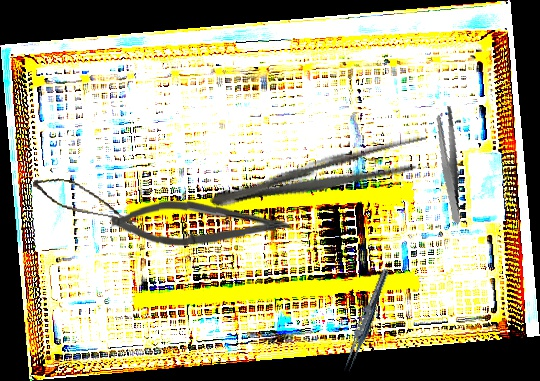Dressing Forceps: (206, 130, 435, 220), (420, 104, 479, 224)
Micro Scissor: (109, 196, 295, 249), (28, 173, 144, 228)
Tissue Forceps: (340, 265, 392, 377)
